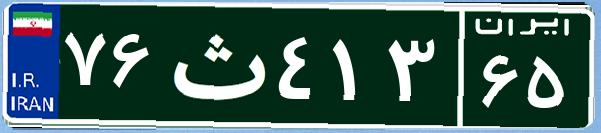1: (330, 28, 385, 110)
3: (385, 28, 445, 110)
4: (273, 28, 330, 110)
5: (525, 38, 570, 115)
6: (475, 38, 525, 113), (110, 28, 158, 105)
7: (57, 26, 110, 107)
ث: (158, 15, 273, 115)
